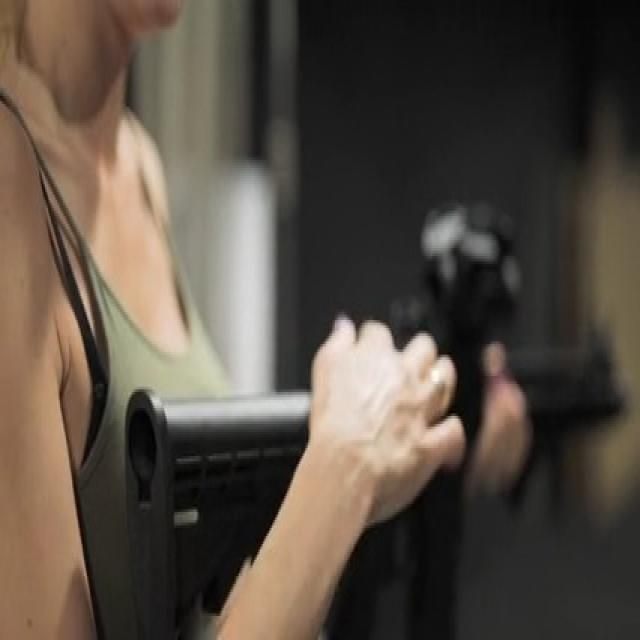Gun_Holder: (102, 132, 640, 640)
